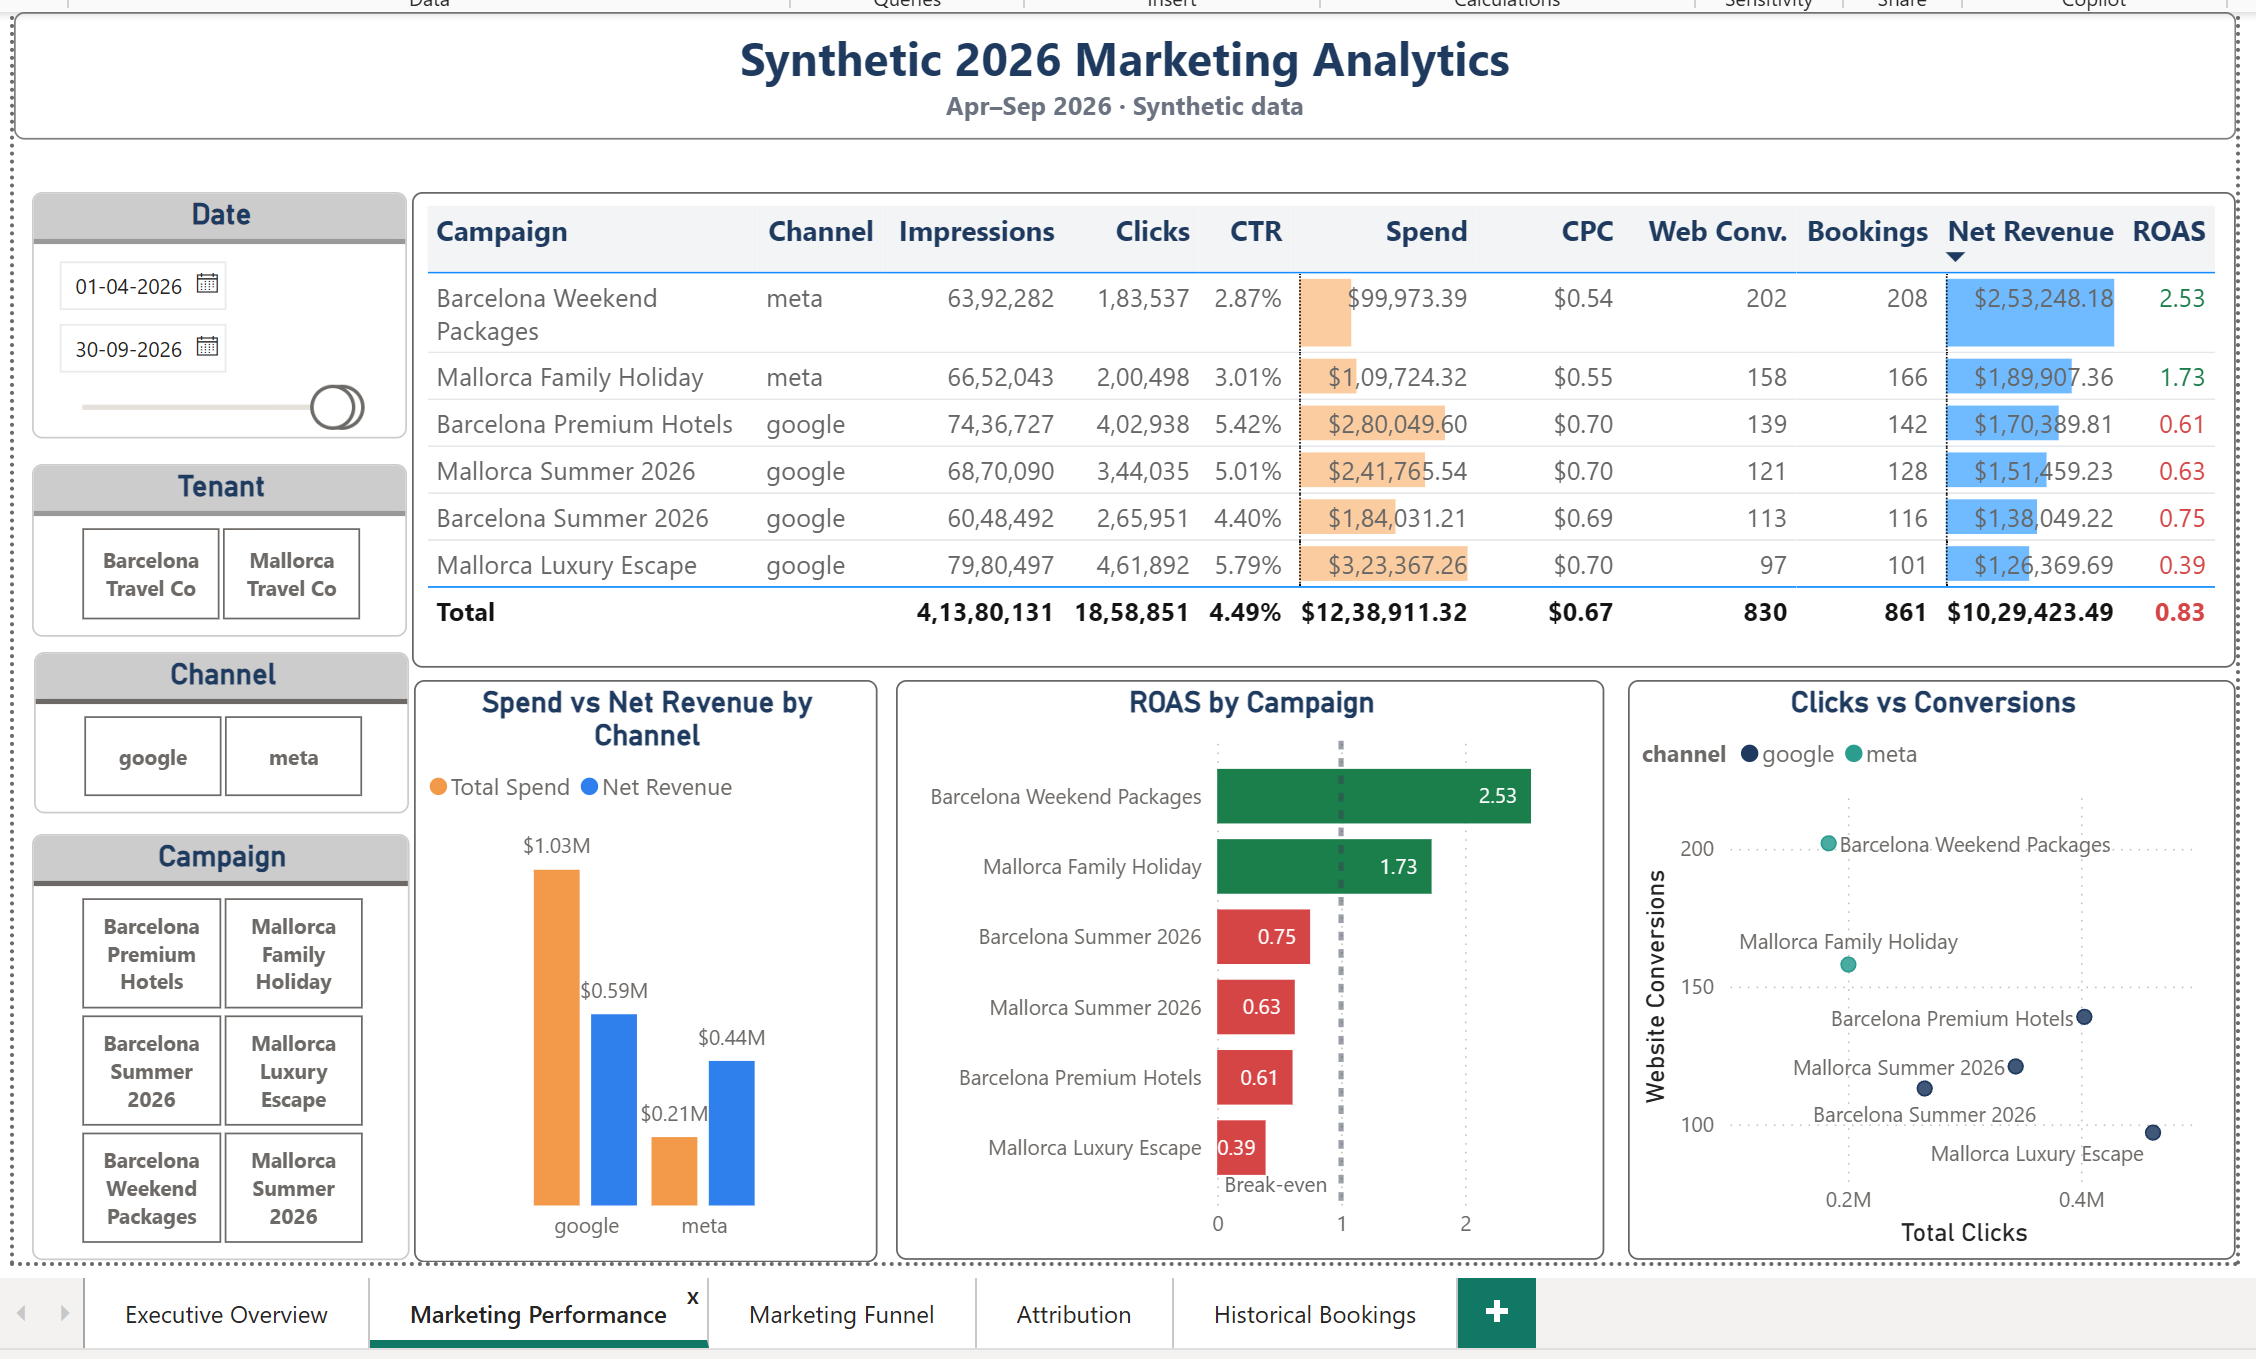

The dashboard page shown, as its layout file describes it:
{"tool":"powerbi","page":{"name":"Marketing Performance","canvas":[1280,720],"ordinal":1},"visuals":[{"type":"textbox","box":[269,489.6,228.2,49.7],"z":0},{"type":"slicer","title":"Date","fields":{"Values":["dim_date.date_day"]},"box":[10.6,103.5,216.2,141.9],"z":1000},{"type":"slicer","title":"Tenant","fields":{"Values":["dim_tenant.tenant_name"]},"box":[10.6,260,216.2,99.5],"z":2000},{"type":"slicer","title":"Campaign","fields":{"Values":["dim_campaign.campaign_name"]},"box":[10.6,473.5,217.5,245.4],"z":3000},{"type":"slicer","title":"Channel","fields":{"Values":["dim_campaign.channel"]},"box":[11.9,368.7,216.2,92.8],"z":4000},{"type":"textbox","box":[0,0,1279.9,73.7],"z":5000},{"type":"tableEx","fields":{"Values":["dim_campaign.campaign_name","dim_campaign.channel","_Measures.Total Impressions","_Measures.Total Clicks","_Measures.CTR","_Measures.Total Spend","_Measures.CPC","_Measures.Website Conversions","_Measures.Bookings","_Measures.Net Revenue","_Measures.ROAS"]},"box":[229.2,103.7,1050.6,274.2],"z":6000},{"type":"clusteredColumnChart","title":"Spend vs Net Revenue by Channel","fields":{"Category":["dim_campaign.channel"],"Y":["_Measures.Total Spend","_Measures.Net Revenue"]},"box":[229.8,384.4,266.8,335.5],"z":7000},{"type":"clusteredBarChart","title":"ROAS by Campaign","fields":{"Category":["dim_campaign.campaign_name"],"Y":["_Measures.ROAS"]},"box":[508.6,384.4,408.2,334.2],"z":8000},{"type":"scatterChart","title":"Clicks vs Conversions","fields":{"X":["_Measures.Total Clicks"],"Y":["_Measures.Website Conversions"],"Category":["dim_campaign.campaign_name"],"Series":["dim_campaign.channel"]},"box":[930,384.8,350,334],"z":9000}]}

Visuals, with their boxes in screenshot pixels (x1, y1, x2, y2):
textbox: <region>473, 857, 870, 943</region>
"Date" slicer: <region>24, 186, 400, 432</region>
"Tenant" slicer: <region>24, 458, 400, 631</region>
"Campaign" slicer: <region>24, 829, 402, 1255</region>
"Channel" slicer: <region>27, 647, 402, 808</region>
textbox: <region>6, 6, 2231, 134</region>
tableEx - dim_campaign.campaign_name x dim_campaign.channel: <region>404, 186, 2230, 663</region>
"Spend vs Net Revenue by Channel" clusteredColumnChart: <region>405, 674, 869, 1257</region>
"ROAS by Campaign" clusteredBarChart: <region>890, 674, 1599, 1255</region>
"Clicks vs Conversions" scatterChart: <region>1622, 675, 2231, 1255</region>
